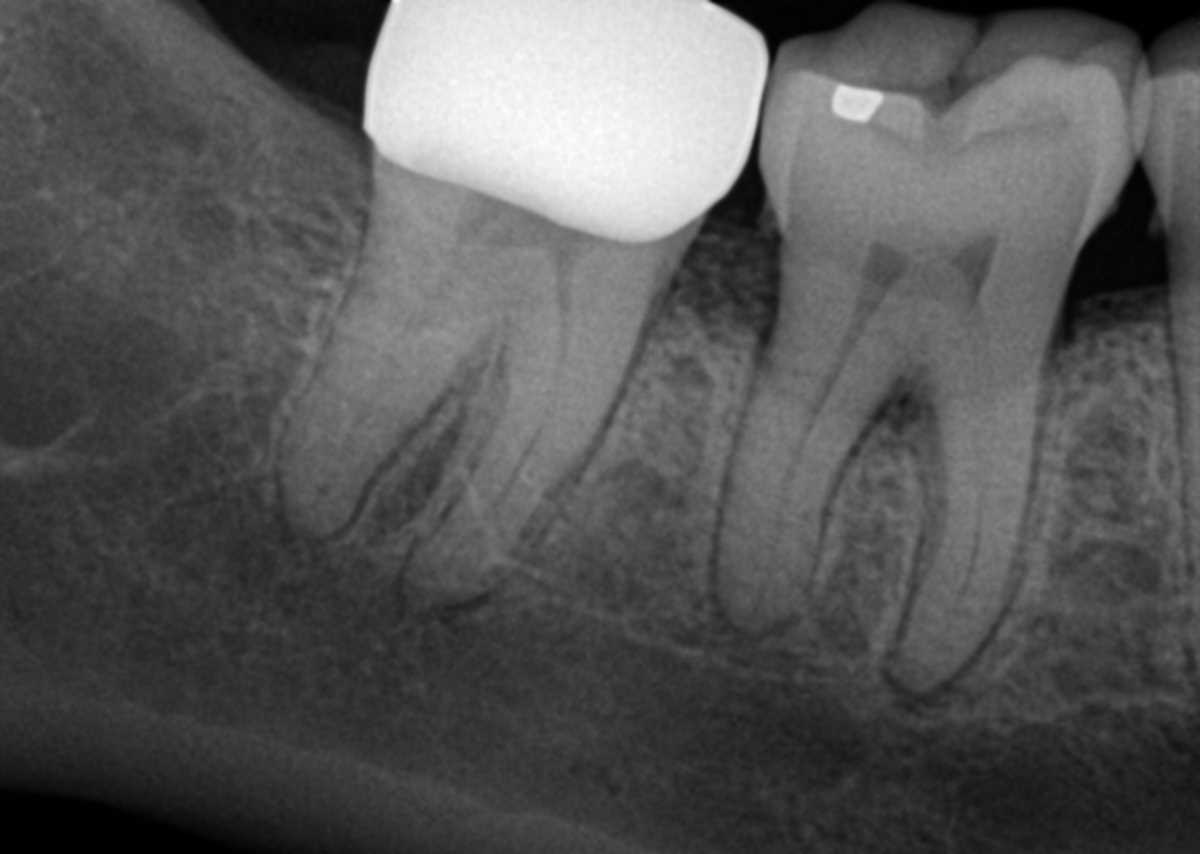Distal Canal: (749, 306, 869, 624), (318, 268, 458, 498)
Distal Root: (277, 167, 492, 542), (713, 253, 912, 640)
Main Root: (1164, 307, 1200, 679)
Mesial Canal: (441, 303, 571, 583), (939, 347, 997, 636)
Mesial Root: (401, 289, 660, 617), (886, 342, 1046, 701)
